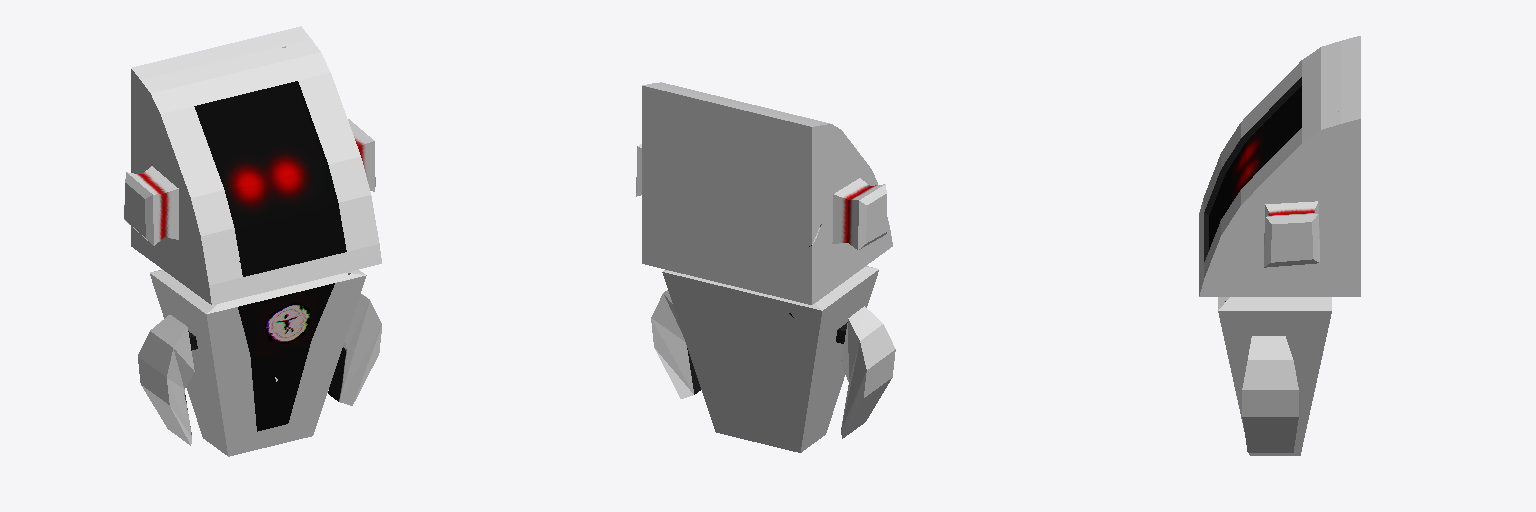
3 views of the same model, side by side, from view 1: azimuth 30°, elevation 25°; view 2: azimuth 150°, elevation 25°; view 3: azimuth 270°, elevation 25° (orthographic).
Parts seen in each view (by area): view 1: Cube; view 2: Cube; view 3: Cube.
Boxes of the visible parts, x1,y1,x2,y2 form: Cube: [124, 26, 381, 456]; Cube: [636, 82, 895, 452]; Cube: [1199, 36, 1360, 455].
Size of the model in its own units: 2.7 by 4.02 by 1.64.
Materials: 1 (1 with a texture image).